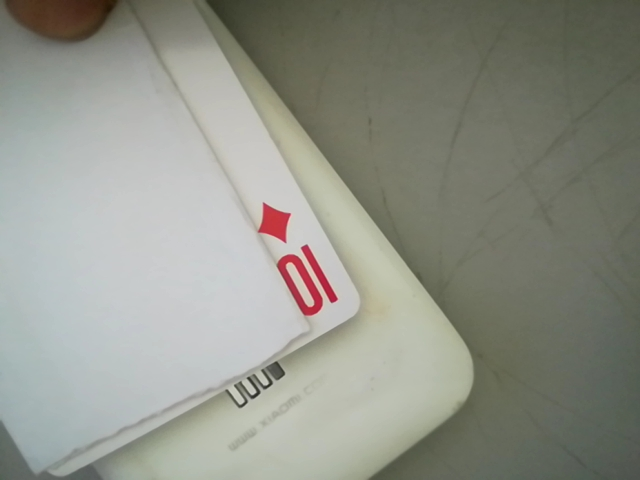fk 10: (248, 194, 356, 335)
